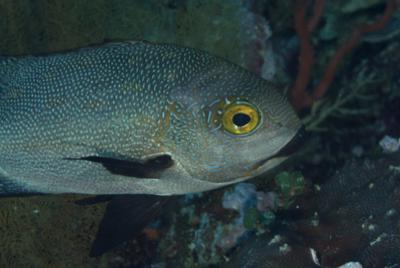Lutjanidae -Snappers-: (0, 27, 315, 260)
